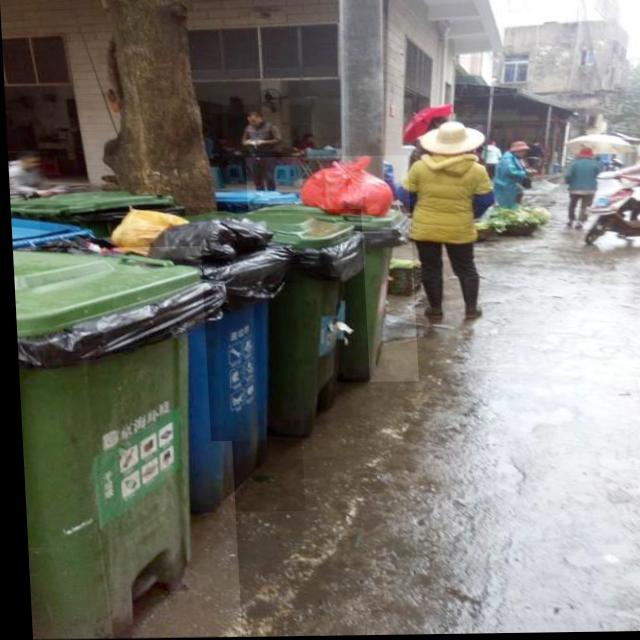garbage_bin: (10, 246, 235, 639), (197, 210, 368, 442)
overflow: (37, 207, 300, 515), (243, 156, 415, 384)
